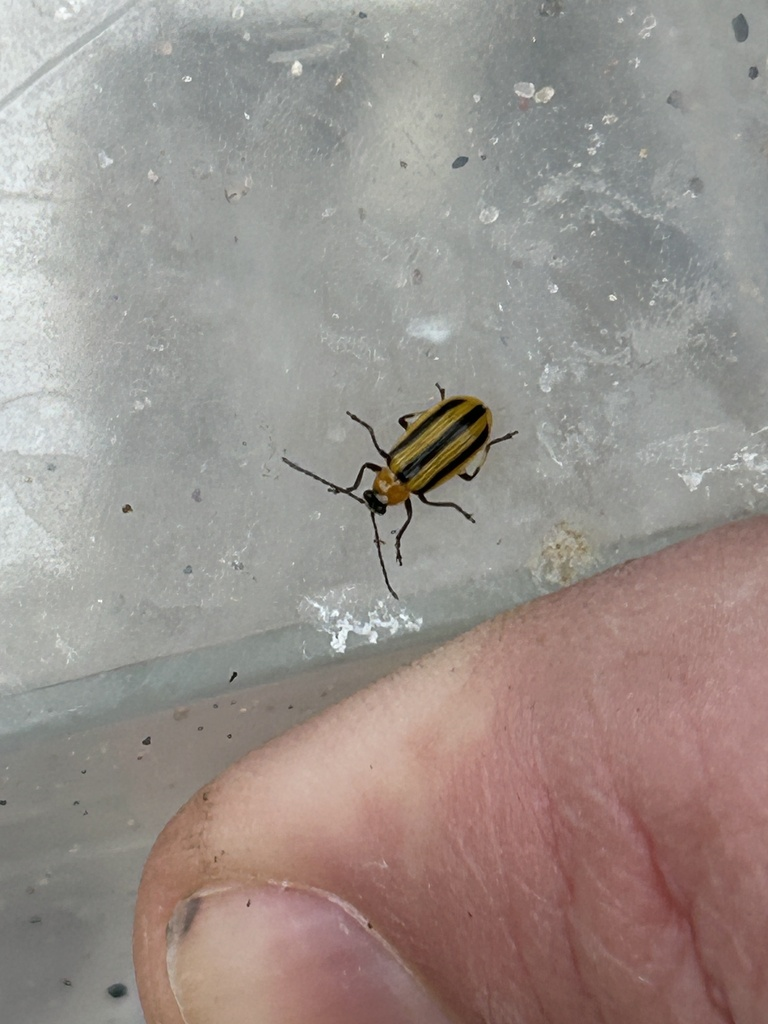potato_beetle: (242, 321, 566, 647)
